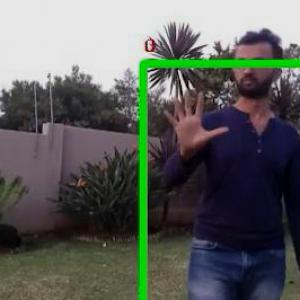follow_hand: (160, 85, 231, 159)
